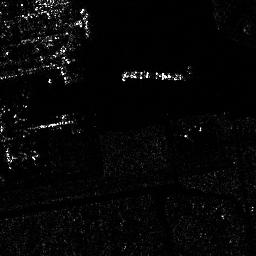ship: (121, 68, 184, 83)
